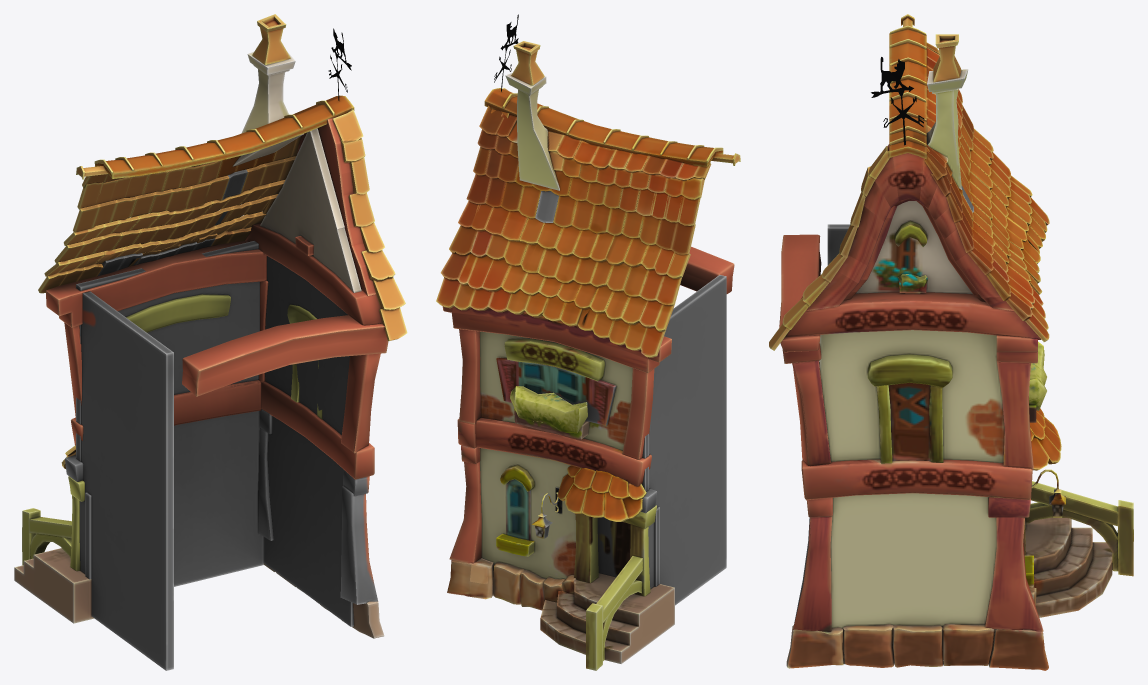
File: cartoon_house (2).glb
3 views of the same model, side by side, from view 1: azimuth 30°, elevation 25°; view 2: azimuth 150°, elevation 25°; view 3: azimuth 270°, elevation 25° (orthographic). The views are drawn at different scales.
Visible parts, largest first — view 1: Object_14, Object_3, Object_9, Object_4, Object_15, Object_5, Object_12, Object_13, Object_16, Object_10; view 2: Object_4, Object_3, Object_5, Object_9, Object_15, Object_14, Object_11, Object_10, Object_6, Object_16, Object_2, Object_12 (+1 smaller); view 3: Object_14, Object_9, Object_15, Object_4, Object_10, Object_13, Object_5, Object_12, Object_11, Object_16, Object_6, Object_2 (+2 smaller).
Boxes of the visible parts, <box> form: Object_14: <box>76,128,361,626</box>; Object_3: <box>79,291,173,670</box>; Object_9: <box>64,223,382,604</box>; Object_4: <box>44,95,354,276</box>; Object_15: <box>14,14,313,623</box>; Object_5: <box>38,108,407,468</box>; Object_12: <box>182,315,388,396</box>; Object_13: <box>297,116,375,295</box>; Object_16: <box>232,51,303,166</box>; Object_10: <box>263,563,384,638</box>; Object_4: <box>449,88,723,477</box>; Object_3: <box>648,275,726,605</box>; Object_5: <box>436,88,704,521</box>; Object_9: <box>449,307,656,596</box>; Object_15: <box>442,41,740,670</box>; Object_14: <box>480,331,659,586</box>; Object_11: <box>496,357,616,540</box>; Object_10: <box>447,558,576,610</box>; Object_6: <box>457,105,711,285</box>; Object_16: <box>505,72,559,190</box>; Object_2: <box>510,386,587,433</box>; Object_12: <box>680,246,734,293</box>; Object_14: <box>819,201,1004,658</box>; Object_9: <box>786,220,1043,631</box>; Object_15: <box>899,14,1133,617</box>; Object_4: <box>889,25,1039,440</box>; Object_10: <box>786,586,1048,670</box>; Object_13: <box>806,144,1013,311</box>; Object_5: <box>769,54,1061,470</box>; Object_12: <box>779,234,821,363</box>; Object_11: <box>888,382,930,460</box>; Object_16: <box>926,69,968,189</box>; Object_6: <box>840,42,1033,309</box>; Object_2: <box>898,274,1046,410</box>.
Bounding box in the file's own units: 2.94 × 6.03 × 3.22.
13 materials, 13 textured.
